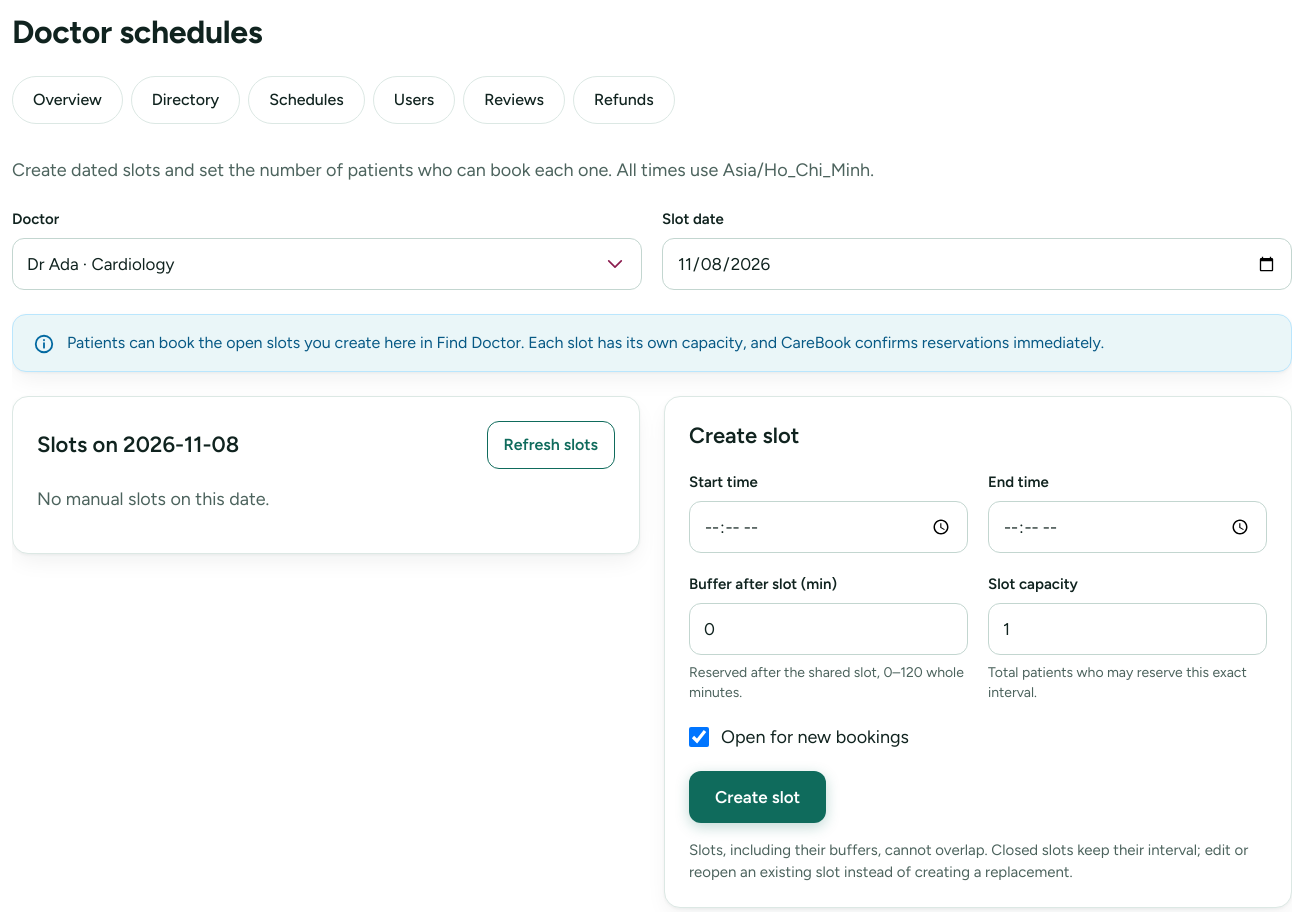
Scenario: keeps inputs on failed save and announces the error
The width and height of the screenshot is (1304, 912).
Expected: the text "No manual slots on this date." is shown, [37,488,269,510]
Type "09:00" into the time field labelled "Start time".
click(828, 527); type("09:00")  # box [689,501,968,553]
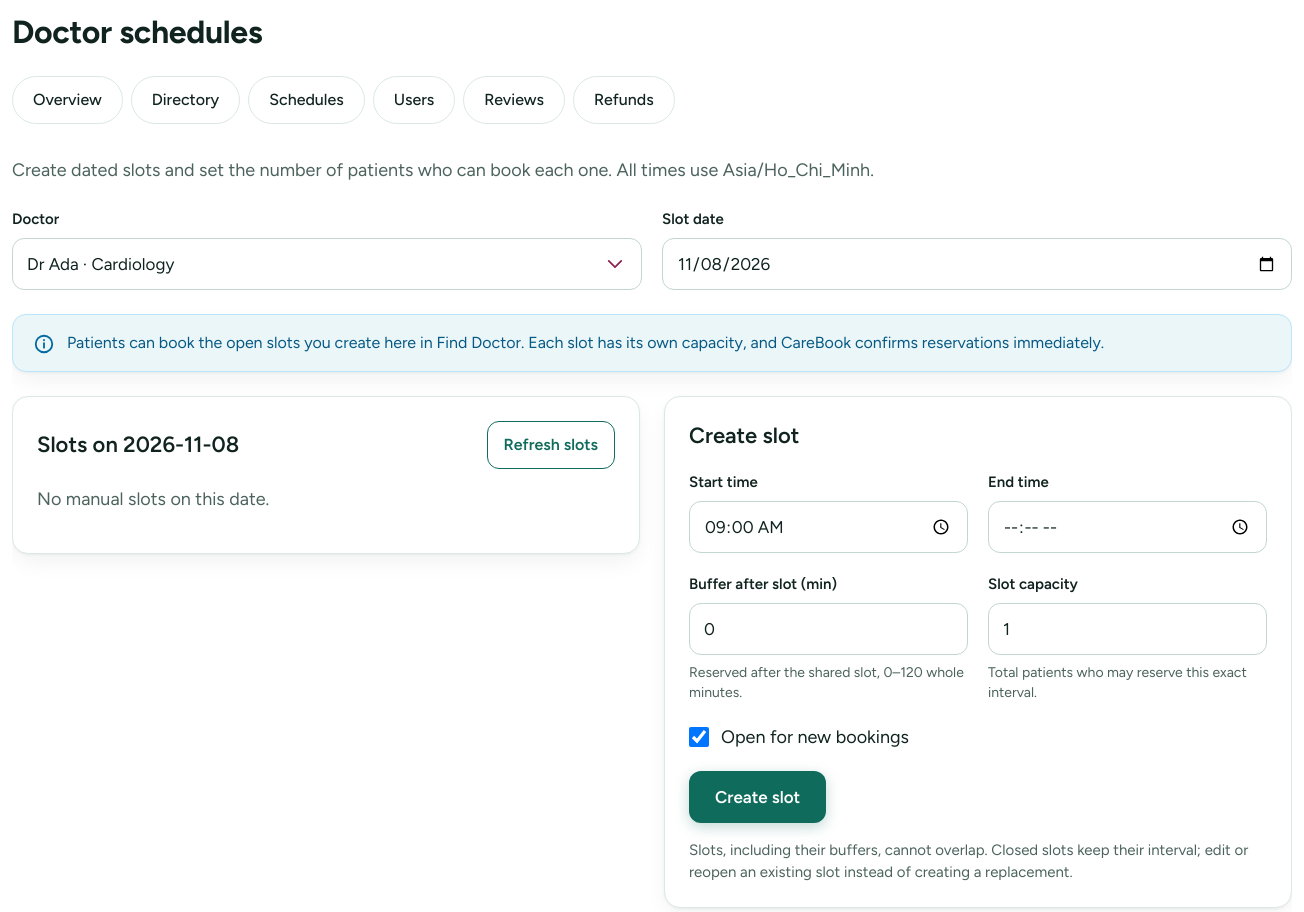
Type "09:30" into the time field labelled "End time".
click(1128, 527); type("09:30")  # box [988,501,1267,553]
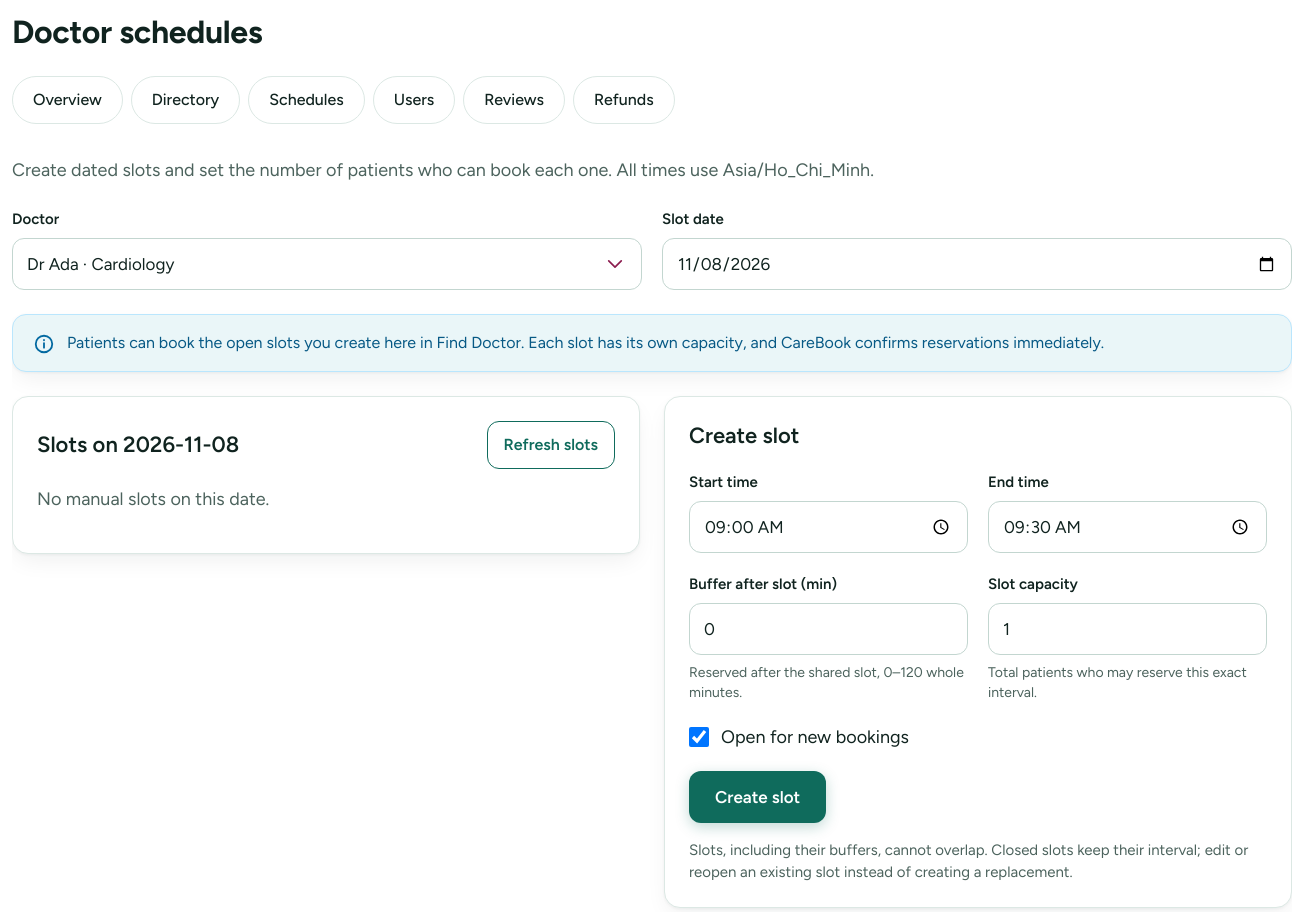
Replace the text in the number field labelled "Slot capacity" with "5" at (1128, 629), box [988,603,1267,655]
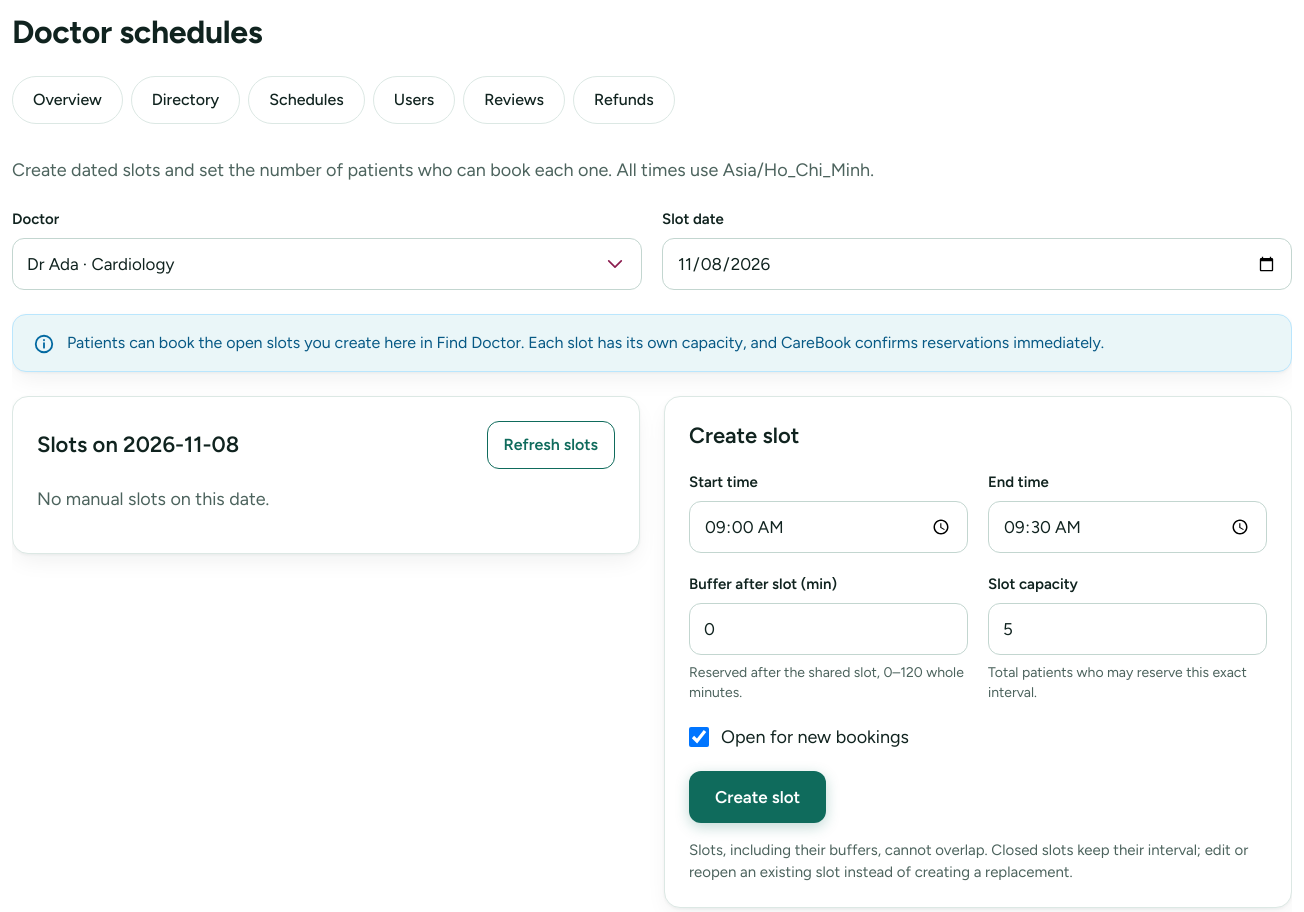
Click the button "Create slot".
click(758, 797)  # box [689,771,826,823]
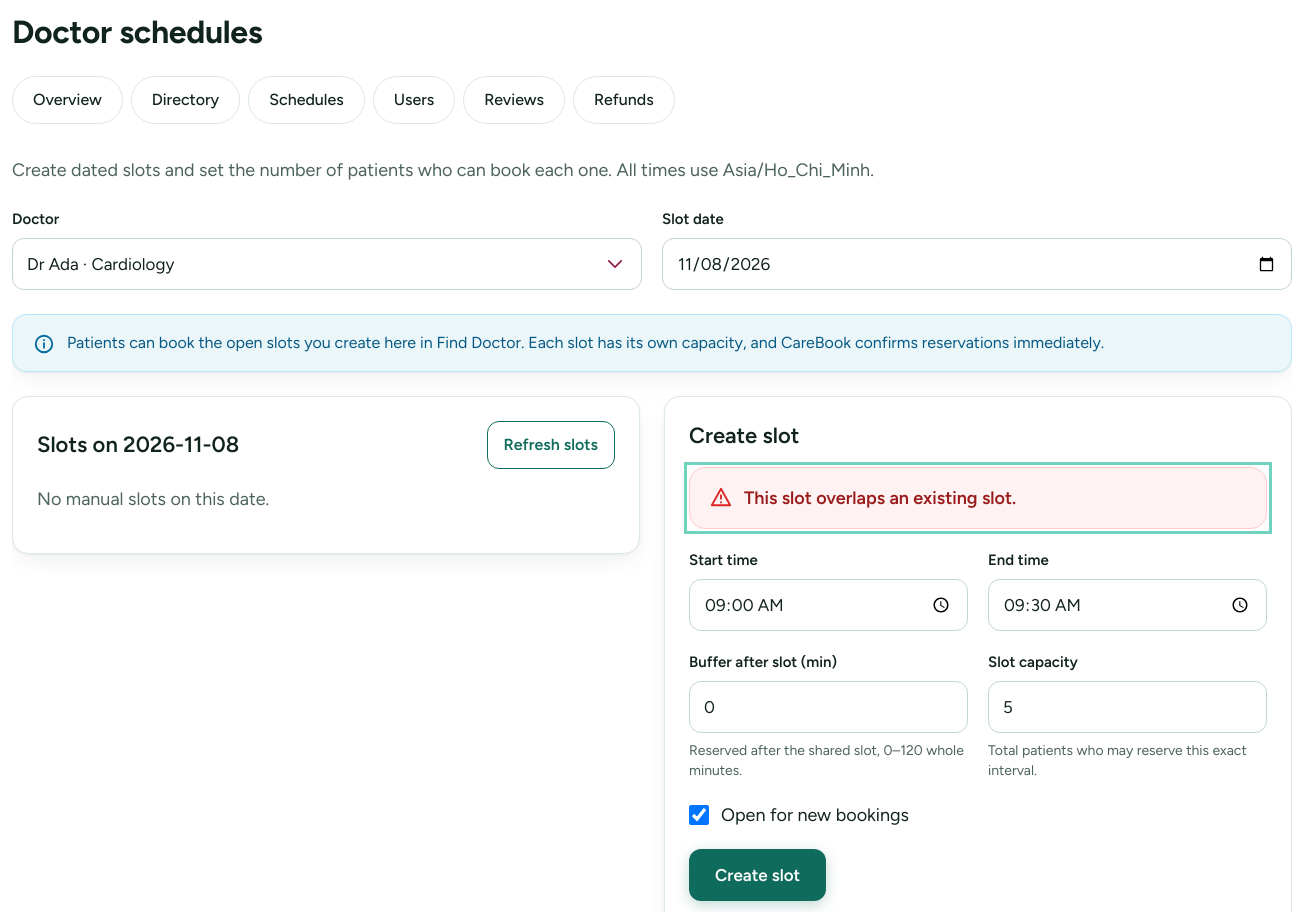
Expected: the message reads "This slot overlaps an existing slot.", [744,487,1016,509]
